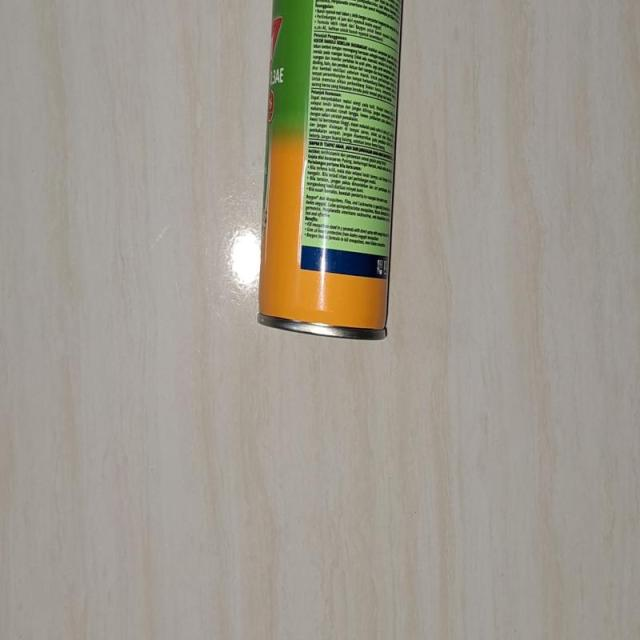Anorganik: (255, 0, 409, 353)
